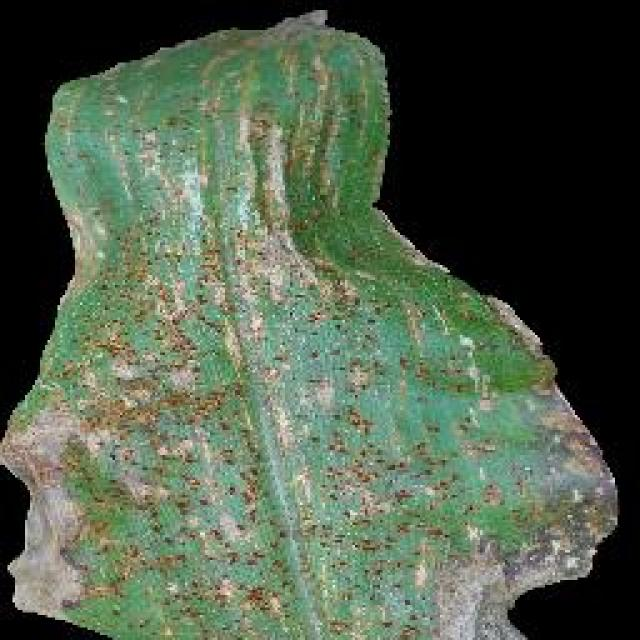Corn Common Rust: (44, 190, 548, 618)
